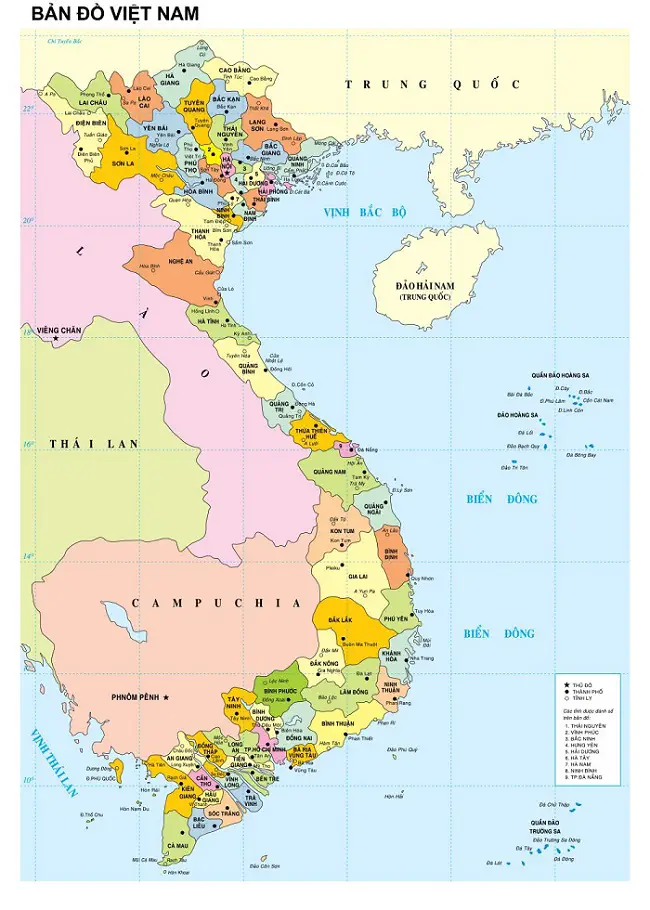Island: (487, 364, 616, 477), (484, 794, 601, 877)
